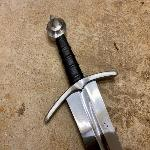Pedang: (32, 10, 130, 150)
